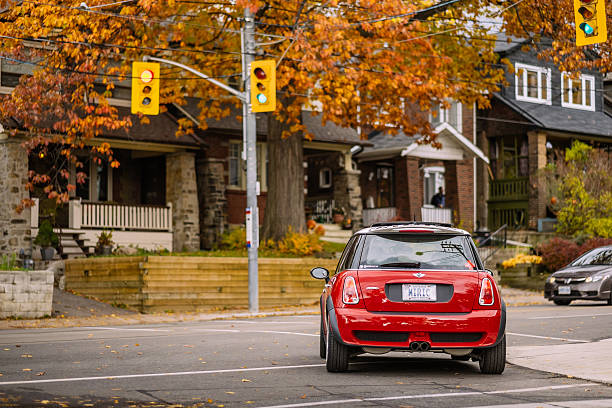licence: (398, 281, 438, 303)
